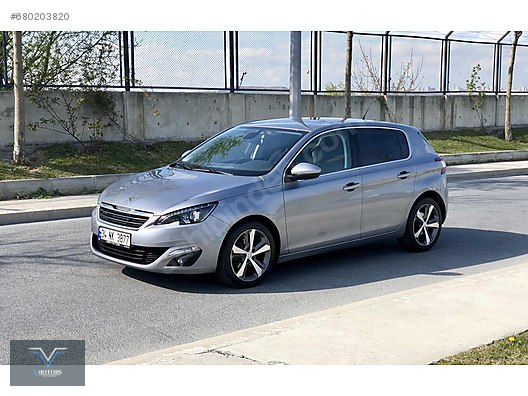peugeot: (102, 108, 448, 284)
